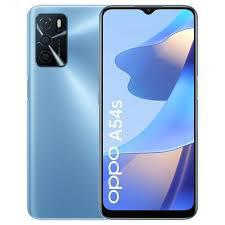Smartphone: (102, 8, 198, 217), (28, 10, 108, 212)
